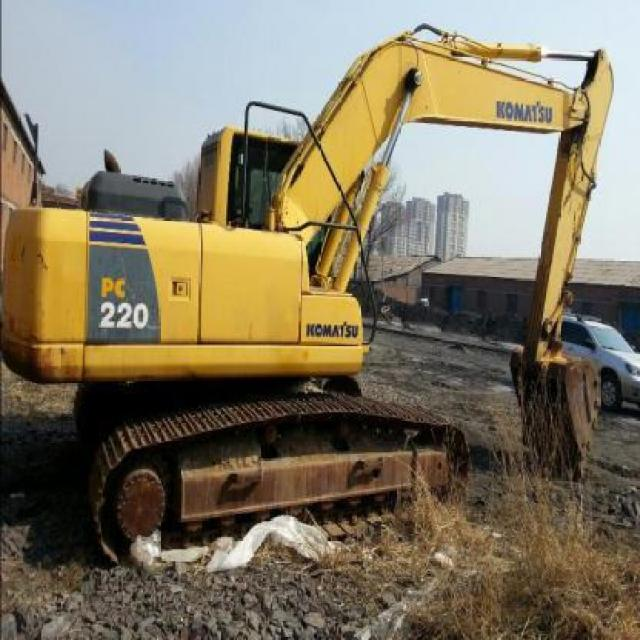Excavator: (1, 20, 613, 565)
